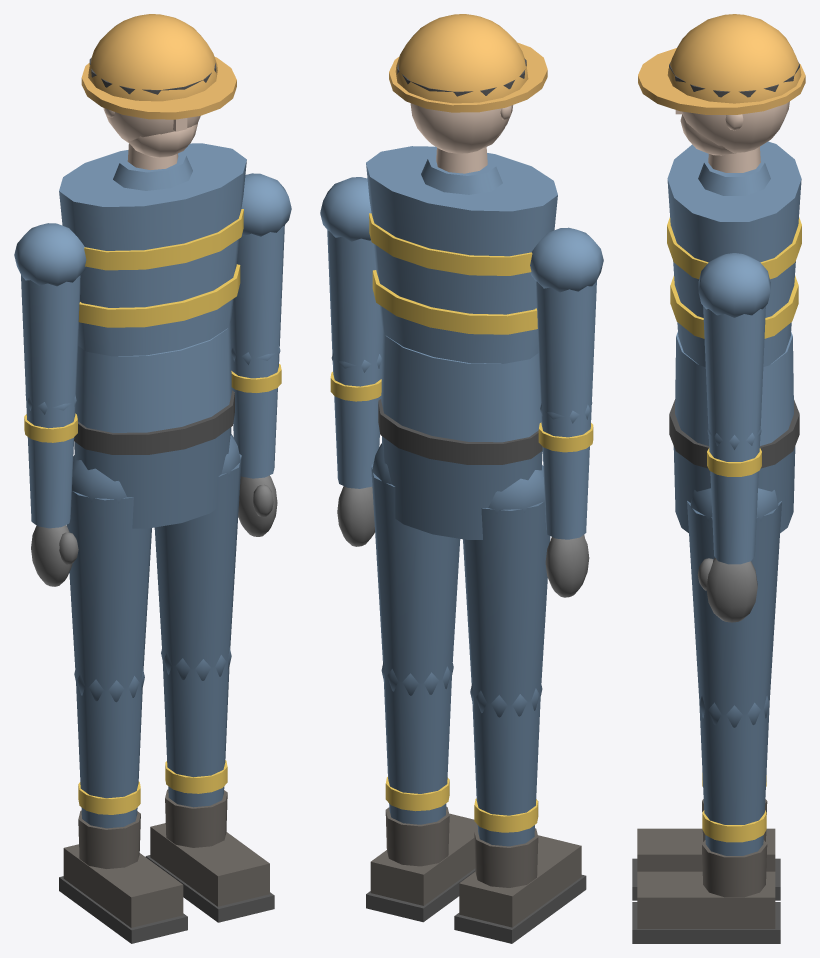
File: shift2.glb
3 renders of one model, left to right at view 1: azimuth 30°, elevation 25°; view 2: azimuth 150°, elevation 25°; view 3: azimuth 270°, elevation 25°, orthographic. The views are drawn at different scales.
Parts seen in each view (by area): view 1: chest, head, hip_R, hip_L, spine, pelvis, ankle_R, shoulder_R, ankle_L, knee_R, knee_L, shoulder_L (+5 smaller); view 2: chest, hip_R, head, hip_L, spine, pelvis, shoulder_R, ankle_R, knee_L, knee_R, ankle_L, shoulder_L (+5 smaller); view 3: chest, head, hip_L, ankle_L, shoulder_L, knee_L, elbow_L, pelvis, spine, ankle_R, wrist_L, neck.
Boxes of the visible parts, box(x1,y1,x2,y2) form: chest: box(59, 143, 246, 356); head: box(81, 14, 236, 157); hip_R: box(66, 455, 151, 690); hip_L: box(154, 434, 241, 669); spine: box(75, 322, 231, 432); pelvis: box(74, 390, 234, 528); ankle_R: box(59, 810, 187, 943); shoulder_R: box(14, 223, 86, 408); ankle_L: box(145, 789, 274, 922); knee_R: box(74, 668, 144, 828); knee_L: box(161, 647, 231, 807); shoulder_L: box(230, 173, 291, 358); chest: box(366, 146, 557, 363); hip_R: box(463, 465, 550, 705); head: box(389, 14, 547, 153); hip_L: box(371, 443, 460, 683); spine: box(381, 328, 541, 442); pelvis: box(378, 399, 542, 539); shoulder_R: box(530, 227, 603, 416); ankle_R: box(454, 828, 586, 943); knee_L: box(381, 661, 453, 824); knee_R: box(470, 683, 542, 846); ankle_L: box(366, 806, 477, 922); shoulder_L: box(320, 177, 382, 365); chest: box(667, 141, 801, 366); head: box(638, 14, 805, 155); hip_L: box(687, 488, 781, 714); ankle_L: box(632, 840, 780, 943); shoulder_L: box(698, 253, 770, 441); knee_L: box(699, 696, 769, 855); elbow_L: box(707, 428, 761, 564); pelvis: box(669, 399, 799, 533); spine: box(675, 331, 793, 445); ankle_R: box(632, 799, 780, 900); wrist_L: box(697, 558, 757, 622); neck: box(708, 147, 760, 172).
Size of the model in its own units: 0.6182 by 1.92 by 0.3392.
